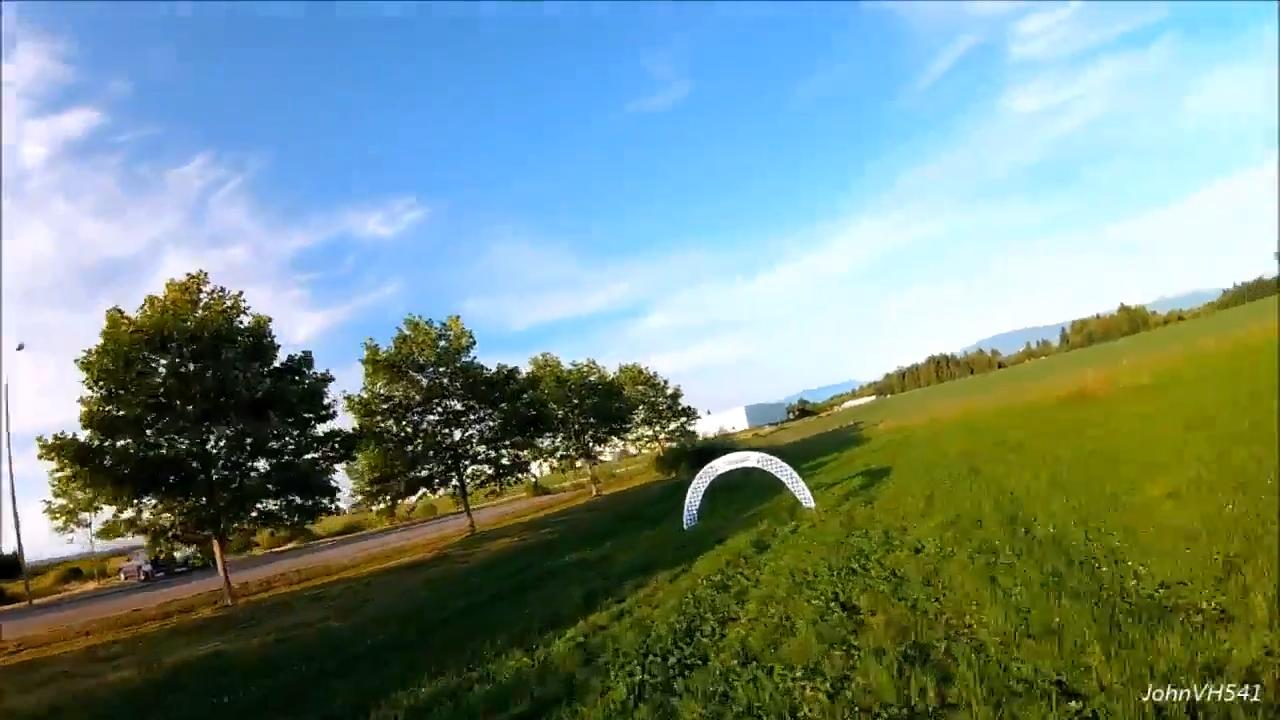gate: (680, 450, 817, 534)
